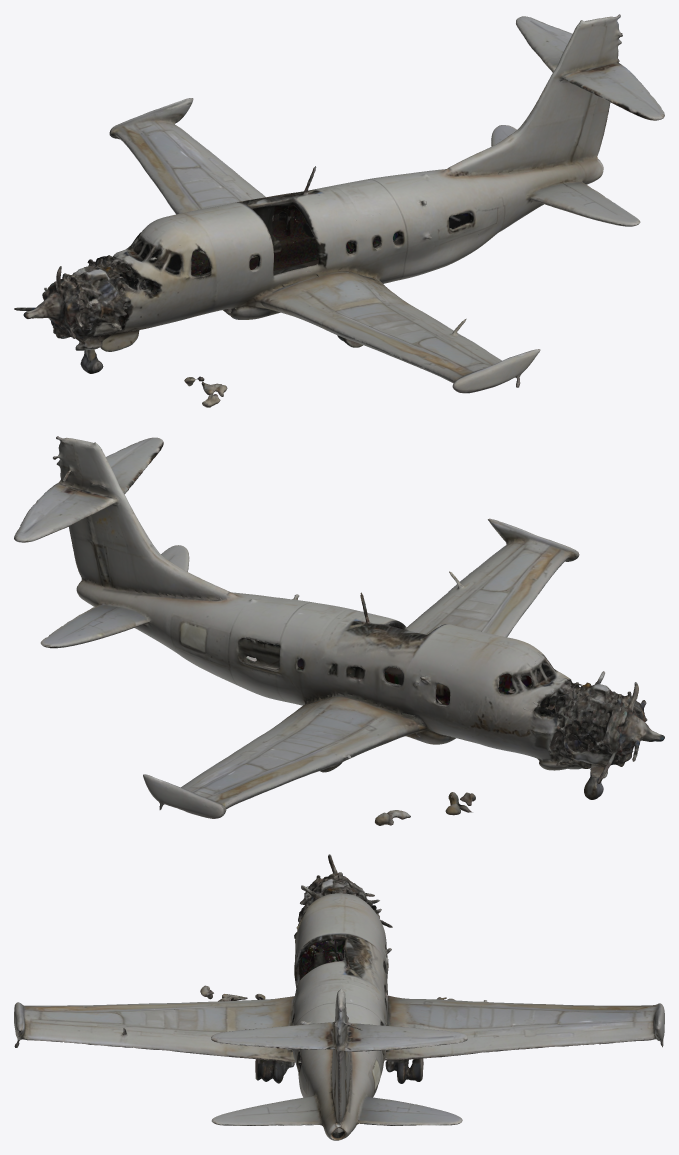
The picture shows the model from 3 angles, top to bottom: view 1: azimuth 30°, elevation 25°; view 2: azimuth 150°, elevation 25°; view 3: azimuth 270°, elevation 25°; orthographic projection. The views are drawn at different scales.
Visible parts, largest first — view 1: Object_6, Object_4, Object_5; view 2: Object_5, Object_4, Object_6; view 3: Object_4, Object_5, Object_6.
Part boxes in pixels (x1=…): Object_6: x1=23, y1=14, x2=645, y2=386; Object_4: x1=14, y1=60, x2=664, y2=407; Object_5: x1=19, y1=16, x2=572, y2=338; Object_5: x1=14, y1=440, x2=639, y2=825; Object_4: x1=53, y1=437, x2=661, y2=808; Object_6: x1=56, y1=436, x2=664, y2=799; Object_4: x1=14, y1=877, x2=662, y2=1140; Object_5: x1=294, y1=878, x2=664, y2=1135; Object_6: x1=259, y1=854, x2=381, y2=1139.
Bounding box in the file's own units: 1.96 × 0.7269 × 1.99.
1 material, 1 textured.
